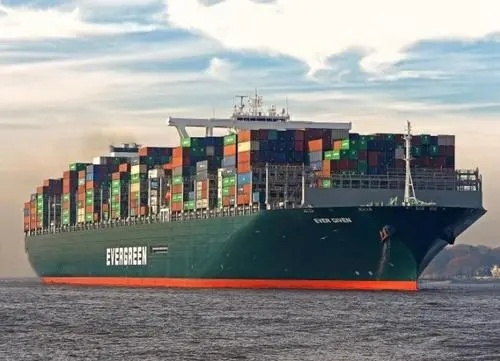Cargoship: (21, 91, 488, 283)
